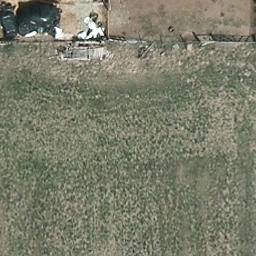car: (0, 8, 21, 38)
